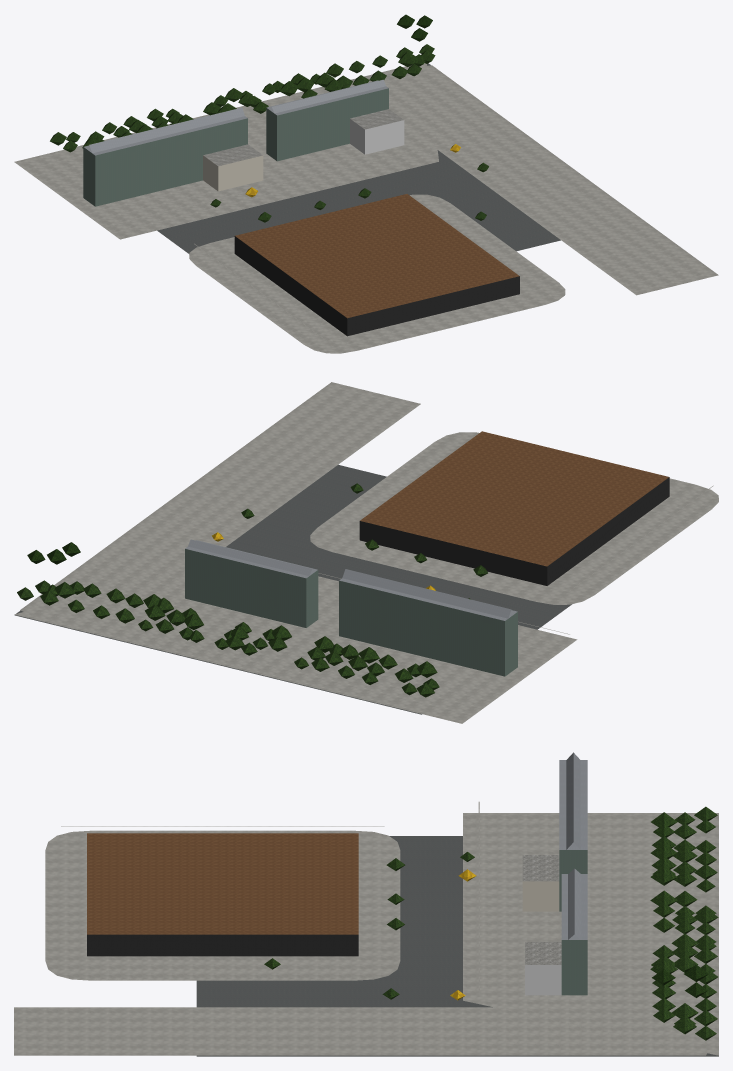
The model's file is cidade_S07_07_lod.gltf.
3 renders of one model, top to bottom at view 1: azimuth 30°, elevation 25°; view 2: azimuth 150°, elevation 25°; view 3: azimuth 270°, elevation 25°, orthographic. The views are drawn at different scales.
Visible parts, largest first — view 1: S07_07_Chao_LOD2, S07_07_Edificios_LOD1, S07_07_Silhueta_LOD2, S07_07_Vegetacao_LOD2; view 2: S07_07_Chao_LOD2, S07_07_Edificios_LOD1, S07_07_Silhueta_LOD2, S07_07_Vegetacao_LOD2; view 3: S07_07_Chao_LOD2, S07_07_Edificios_LOD1, S07_07_Vegetacao_LOD2, S07_07_Silhueta_LOD2.
Part boxes in pixels (x1=…): S07_07_Chao_LOD2: x1=14, y1=63, x2=718, y2=353; S07_07_Edificios_LOD1: x1=83, y1=79, x2=519, y2=341; S07_07_Silhueta_LOD2: x1=83, y1=80, x2=388, y2=206; S07_07_Vegetacao_LOD2: x1=50, y1=14, x2=488, y2=222; S07_07_Chao_LOD2: x1=14, y1=382, x2=718, y2=723; S07_07_Edificios_LOD1: x1=185, y1=431, x2=713, y2=676; S07_07_Silhueta_LOD2: x1=185, y1=540, x2=517, y2=675; S07_07_Vegetacao_LOD2: x1=17, y1=483, x2=487, y2=697; S07_07_Chao_LOD2: x1=14, y1=813, x2=718, y2=1056; S07_07_Edificios_LOD1: x1=61, y1=752, x2=587, y2=995; S07_07_Vegetacao_LOD2: x1=264, y1=806, x2=718, y2=1040; S07_07_Silhueta_LOD2: x1=559, y1=760, x2=587, y2=995.
Size of the model in its own units: 111 by 15.71 by 135.
Materials: 12 (12 with a texture image).
